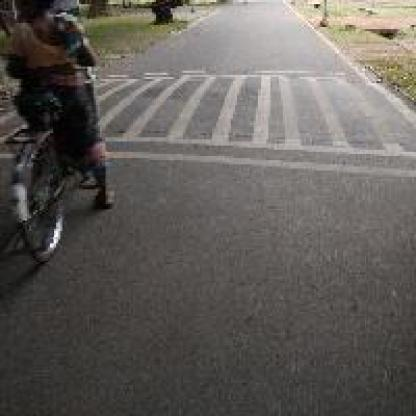Speed Bump: (114, 66, 412, 168)
